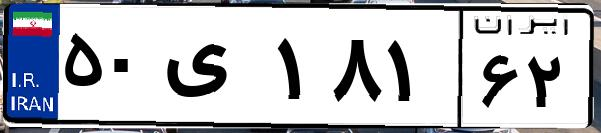0: (110, 28, 158, 98)
1: (270, 28, 330, 110), (385, 28, 445, 110)
2: (525, 38, 570, 115)
5: (57, 26, 110, 100)
6: (475, 38, 525, 113)
8: (330, 28, 385, 110)
ی: (158, 20, 270, 120)
